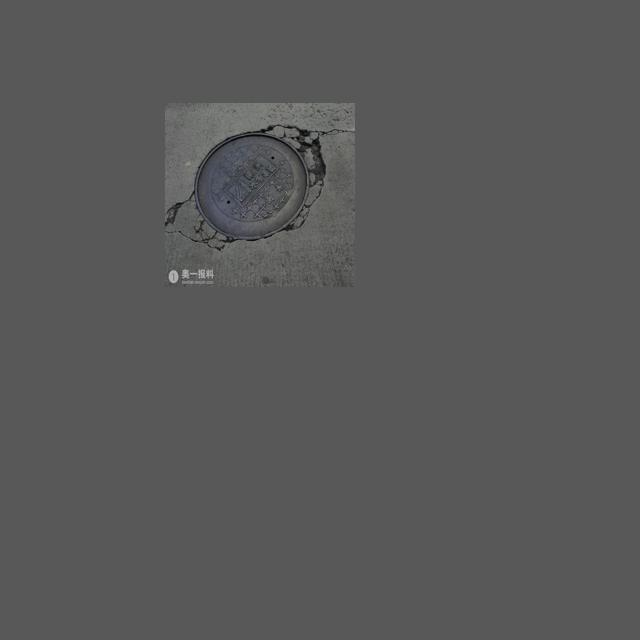circle: (168, 119, 328, 250)
